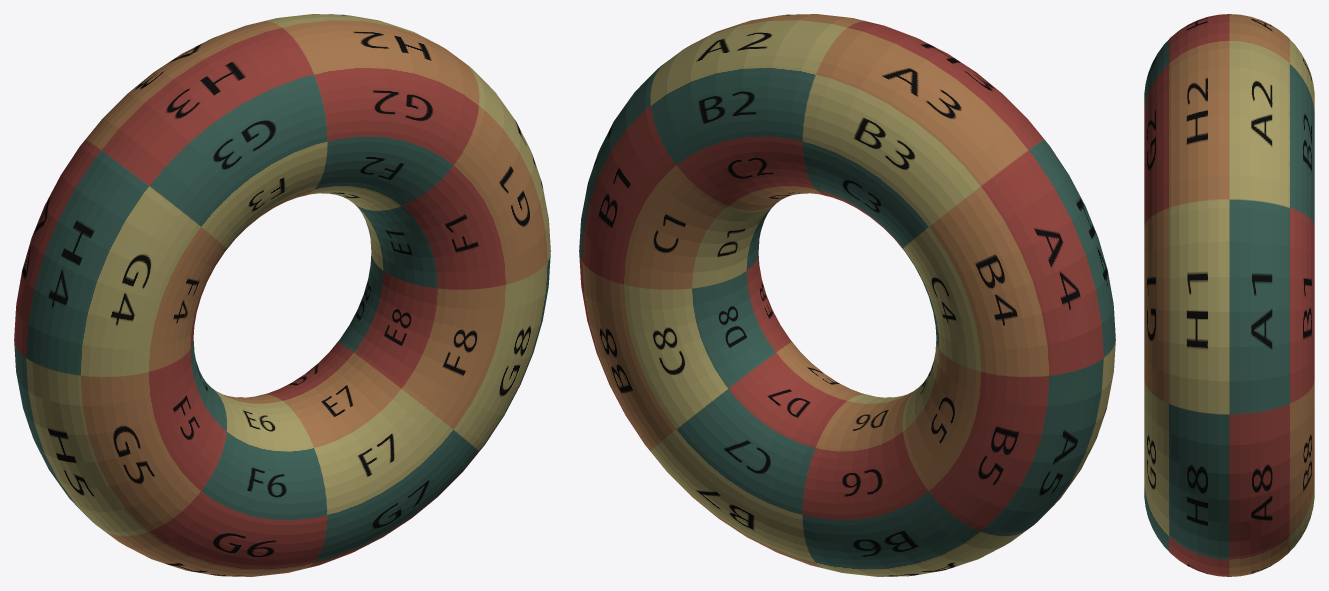
File: texture_torus_R2_r11.glb
3 renders of one model, left to right at view 1: azimuth 30°, elevation 25°; view 2: azimuth 150°, elevation 25°; view 3: azimuth 270°, elevation 25°, orthographic. The views are drawn at different scales.
Visible parts, largest first — view 1: world; view 2: world; view 3: world.
Part boxes in pixels (x1,y1,x2,y2): world: (14,14,550,576); world: (579,14,1115,576); world: (1144,14,1314,576).
Bounding box in the file's own units: 16.27 × 16.23 × 4.92.
Materials: 1 (1 with a texture image).
